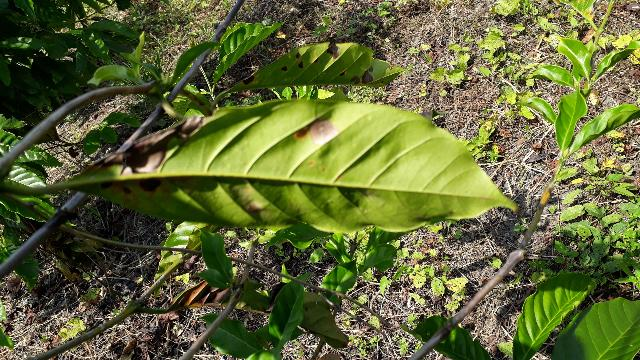red_spider_mite: (68, 97, 525, 236)
